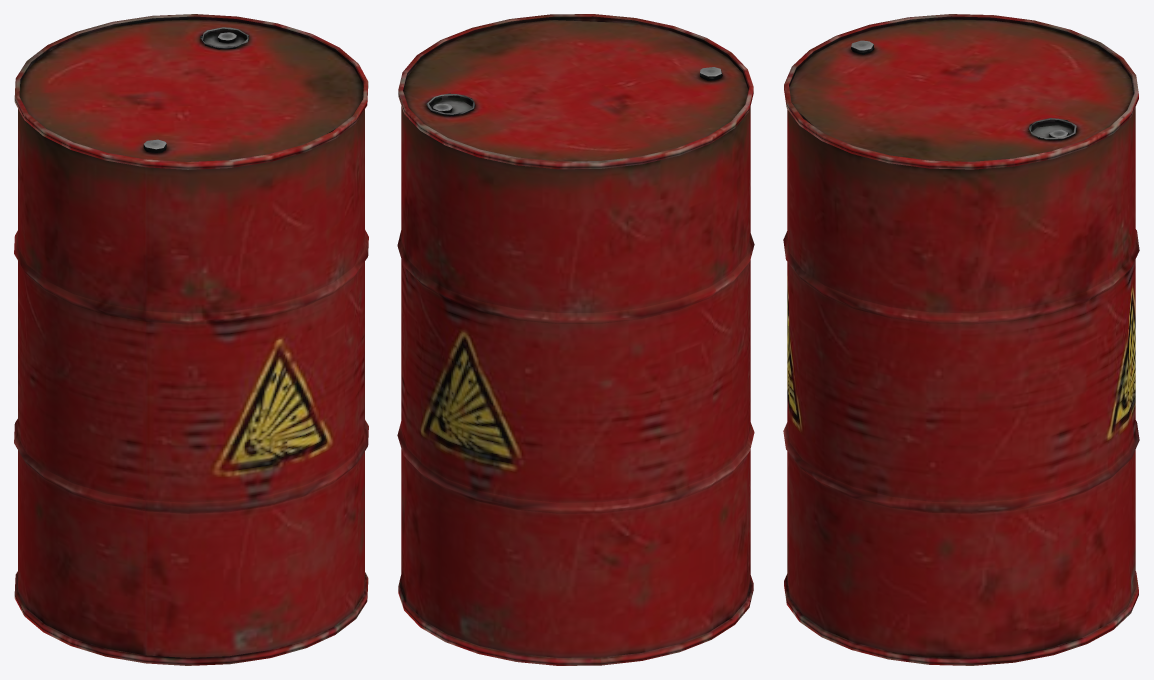
File: Barrel_01.glb
The picture shows the model from 3 angles, left to right: view 1: azimuth 30°, elevation 25°; view 2: azimuth 150°, elevation 25°; view 3: azimuth 270°, elevation 25°; orthographic projection.
Visible parts, largest first — view 1: Barrel_01; view 2: Barrel_01; view 3: Barrel_01.
Part boxes in pixels (left/top/right/bottom): Barrel_01: left=14, top=14, right=368, bottom=665; Barrel_01: left=397, top=14, right=754, bottom=665; Barrel_01: left=783, top=14, right=1139, bottom=665.
Size of the model in its own units: 0.5627 by 0.88 by 0.5627.
1 material, 1 textured.
